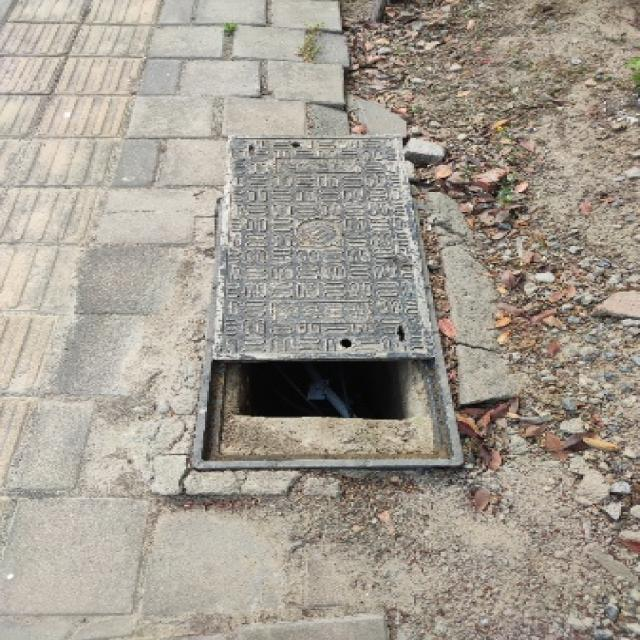Faulty: (197, 130, 466, 487)
